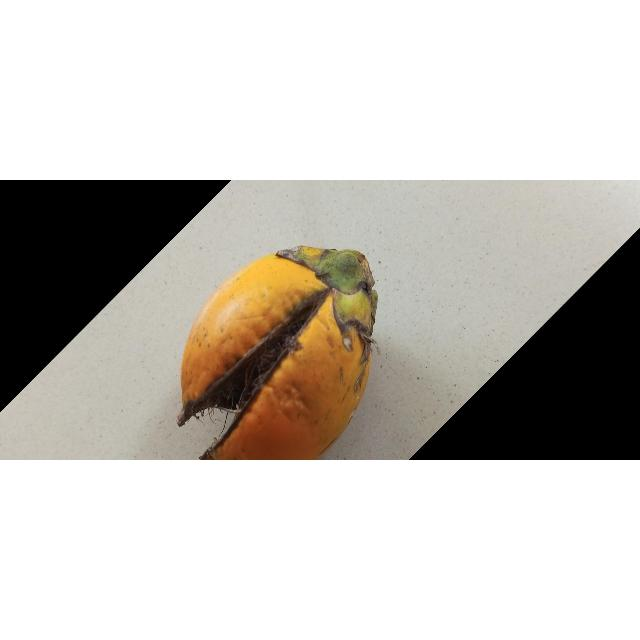damaged: (177, 246, 379, 461)
